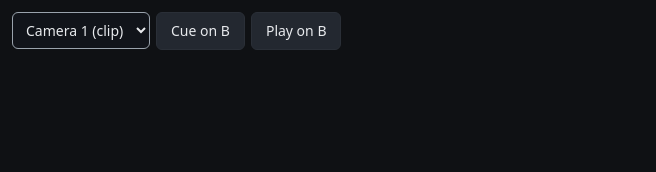
Test: cueing a clip on player B › plays from another camera at the same range when that camera is chosen
Select "Camera 2" in the dropdown named "Camera for Goal" at (81, 31), box [12, 12, 150, 49]
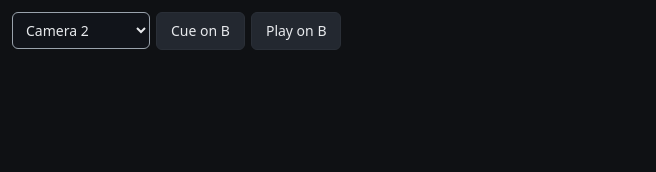
Click the button with aria-label "Play Goal on B".
click(296, 31)  # box [251, 12, 342, 50]
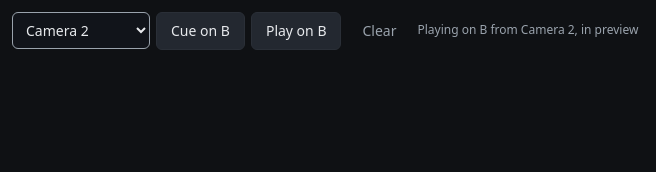
Expected: the text "Playing on B from Camera 2, in preview" is shown, [418, 22, 638, 39]
